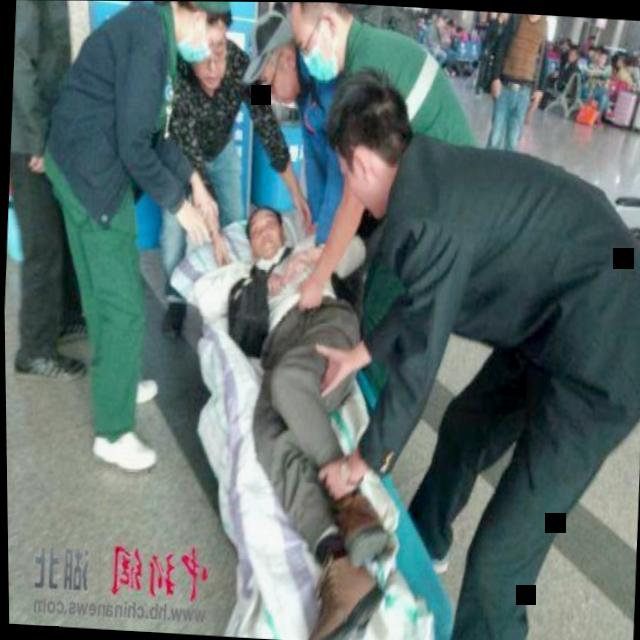Fall-Detected: (211, 174, 449, 640)
